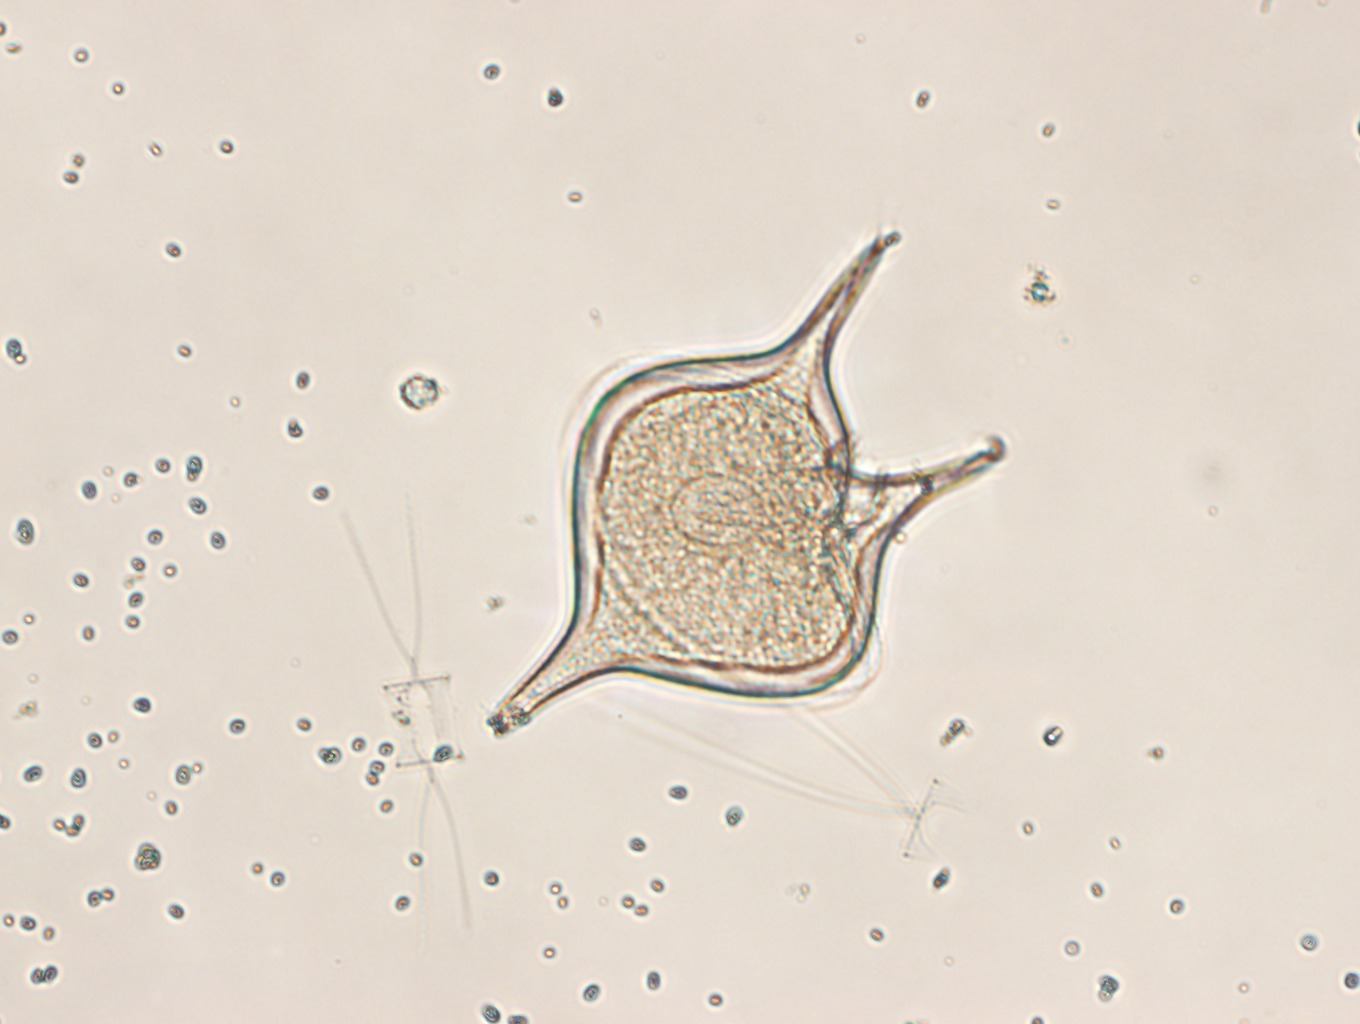chaetoceros: (343, 504, 474, 902)
protoperidinium: (486, 224, 1005, 737)
